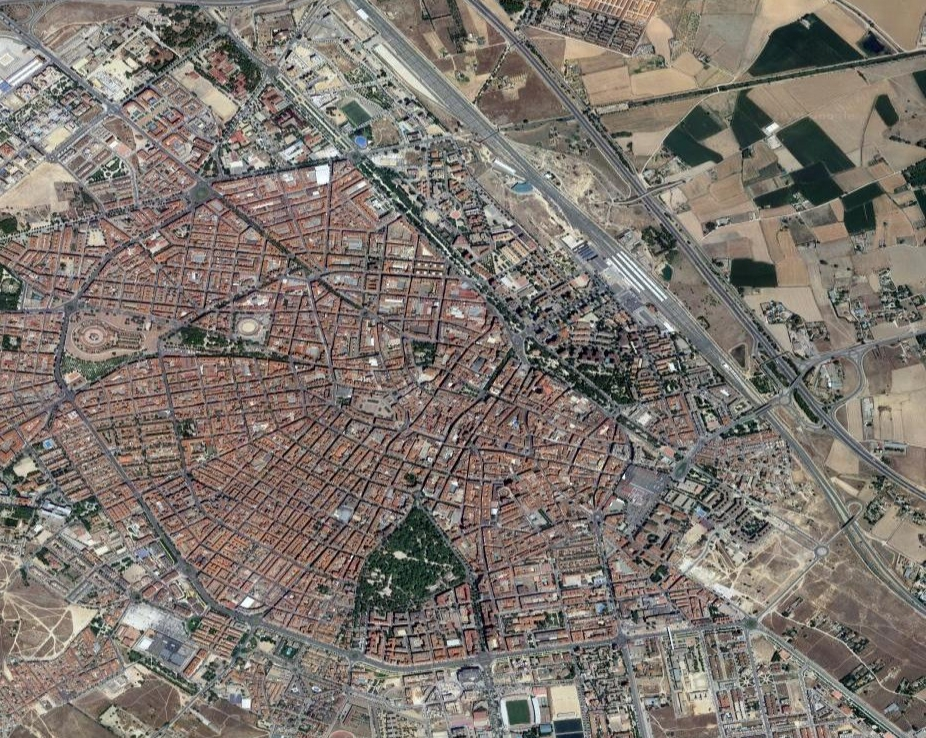motorway: (545, 162, 801, 428), (334, 1, 629, 212), (774, 386, 926, 617)
